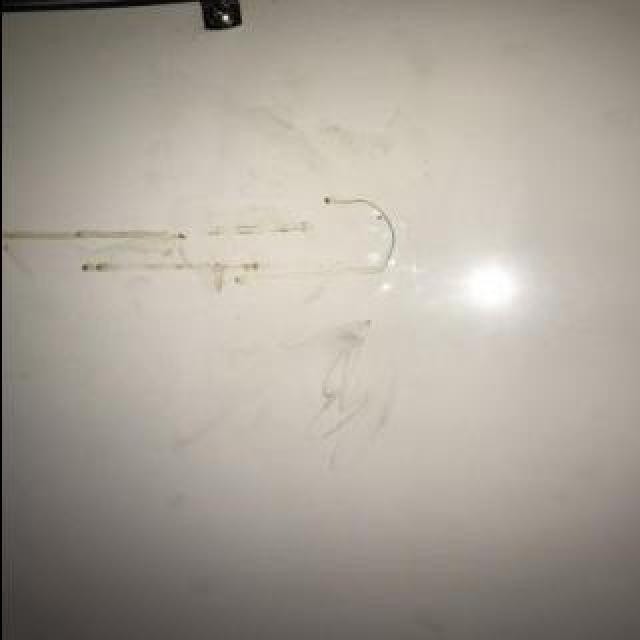crack: (321, 197, 399, 281)
